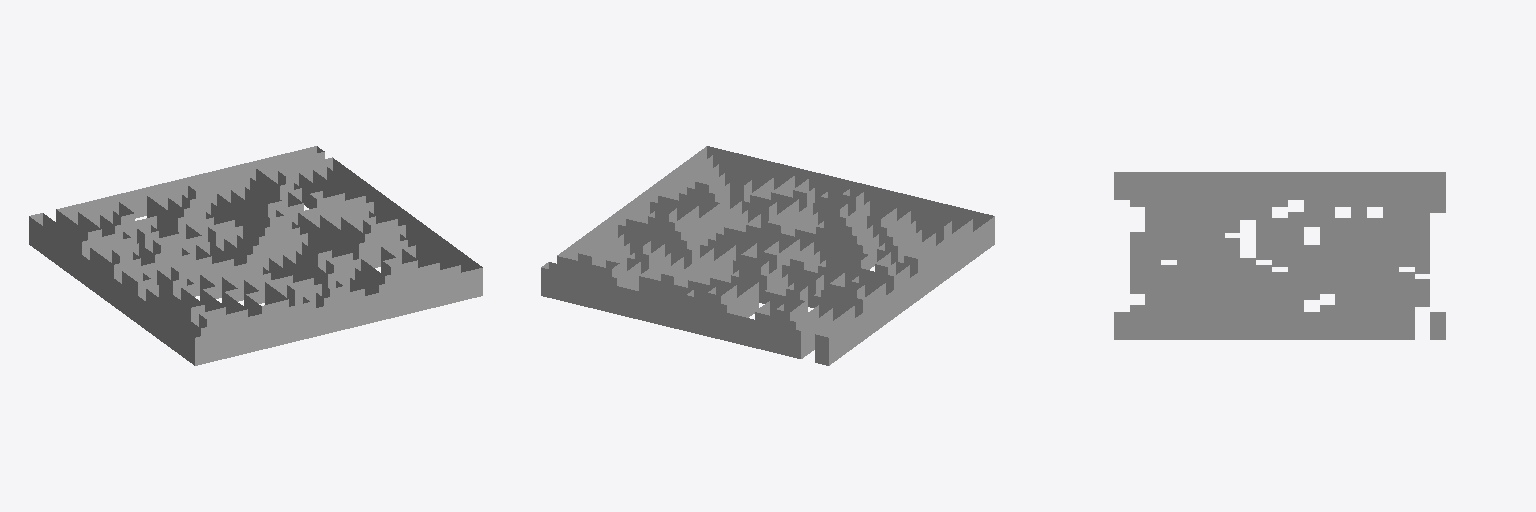
Rendered from MazeWall.obj.
The picture shows the model from 3 angles: view 1: azimuth 30°, elevation 25°; view 2: azimuth 150°, elevation 25°; view 3: azimuth 270°, elevation 25°; orthographic projection.
Visible parts, largest first — view 1: Wall_Walls_Walls_Plane.002; view 2: Wall_Walls_Walls_Plane.002; view 3: Wall_Walls_Walls_Plane.002.
Part boxes in pixels (x1,y1,x2,y2): Wall_Walls_Walls_Plane.002: (29,146,482,365); Wall_Walls_Walls_Plane.002: (541,146,994,365); Wall_Walls_Walls_Plane.002: (1114,172,1445,339).
Bounding box in the file's own units: 42.91 × 4.06 × 42.91.